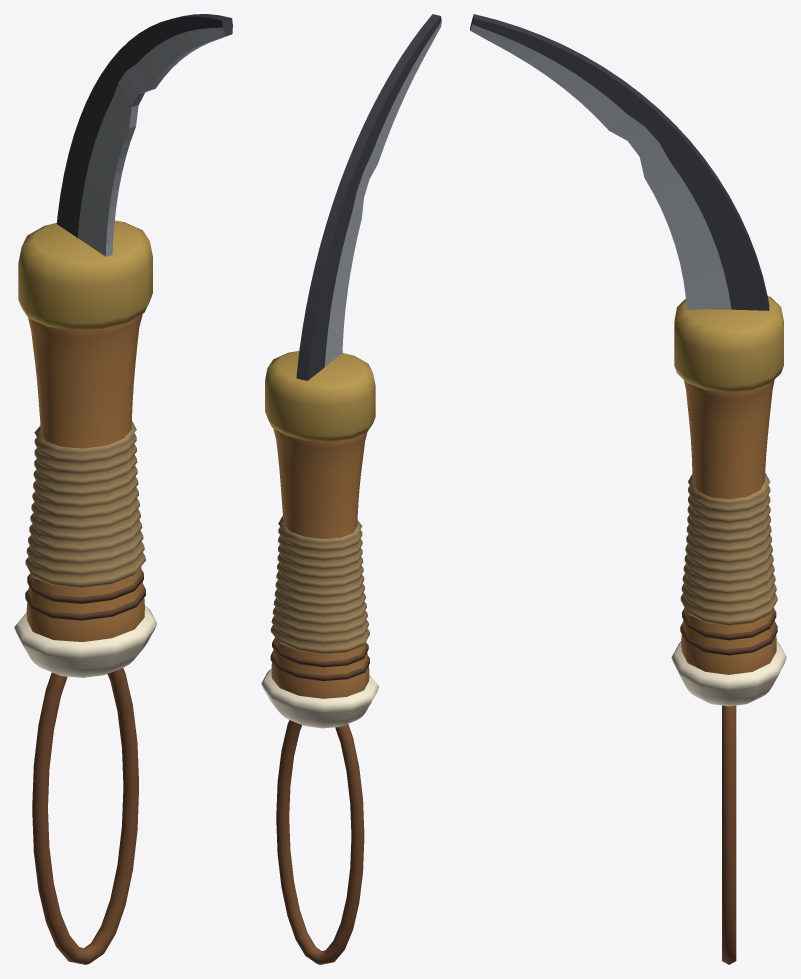
The model's file is tool_herbknife.fbx.
3 views of the same model, side by side, from view 1: azimuth 30°, elevation 25°; view 2: azimuth 150°, elevation 25°; view 3: azimuth 270°, elevation 25° (orthographic). The views are drawn at different scales.
Parts seen in each view (by area): view 1: Tool_HerbKnife_Handle, Tool_HerbKnife_Wrap, Tool_HerbKnife_Blade, Tool_HerbKnife_Ferrule, Tool_HerbKnife_Thong, Tool_HerbKnife_Pommel; view 2: Tool_HerbKnife_Handle, Tool_HerbKnife_Blade, Tool_HerbKnife_Wrap, Tool_HerbKnife_Ferrule, Tool_HerbKnife_Thong, Tool_HerbKnife_Pommel; view 3: Tool_HerbKnife_Blade, Tool_HerbKnife_Handle, Tool_HerbKnife_Wrap, Tool_HerbKnife_Ferrule, Tool_HerbKnife_Thong, Tool_HerbKnife_Pommel.
Part boxes in pixels (x1,y1,x2,y2): Tool_HerbKnife_Handle: (25, 314, 145, 641); Tool_HerbKnife_Wrap: (25, 421, 145, 587); Tool_HerbKnife_Blade: (56, 14, 232, 256); Tool_HerbKnife_Ferrule: (18, 220, 152, 330); Tool_HerbKnife_Thong: (32, 668, 138, 964); Tool_HerbKnife_Pommel: (14, 605, 157, 677); Tool_HerbKnife_Handle: (270, 428, 369, 698); Tool_HerbKnife_Blade: (296, 14, 441, 380); Tool_HerbKnife_Wrap: (270, 515, 369, 654); Tool_HerbKnife_Ferrule: (265, 351, 375, 441); Tool_HerbKnife_Thong: (276, 720, 364, 964); Tool_HerbKnife_Pommel: (261, 668, 379, 728); Tool_HerbKnife_Blade: (470, 14, 769, 310); Tool_HerbKnife_Handle: (680, 380, 777, 674); Tool_HerbKnife_Wrap: (680, 473, 777, 625); Tool_HerbKnife_Ferrule: (674, 296, 783, 392); Tool_HerbKnife_Thong: (722, 705, 736, 964); Tool_HerbKnife_Pommel: (671, 641, 786, 706).
Bounding box in the file's own units: 5.92 × 46.14 × 13.97.
